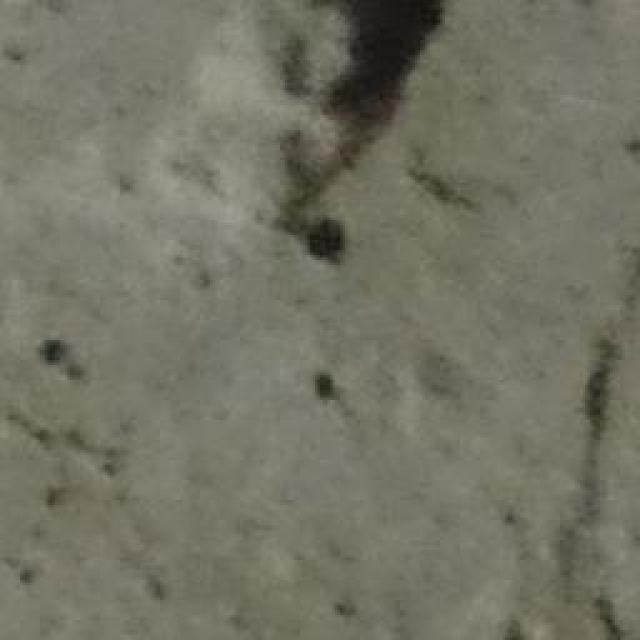Annular: (237, 0, 464, 277)
Longitudinal: (548, 306, 640, 640)
